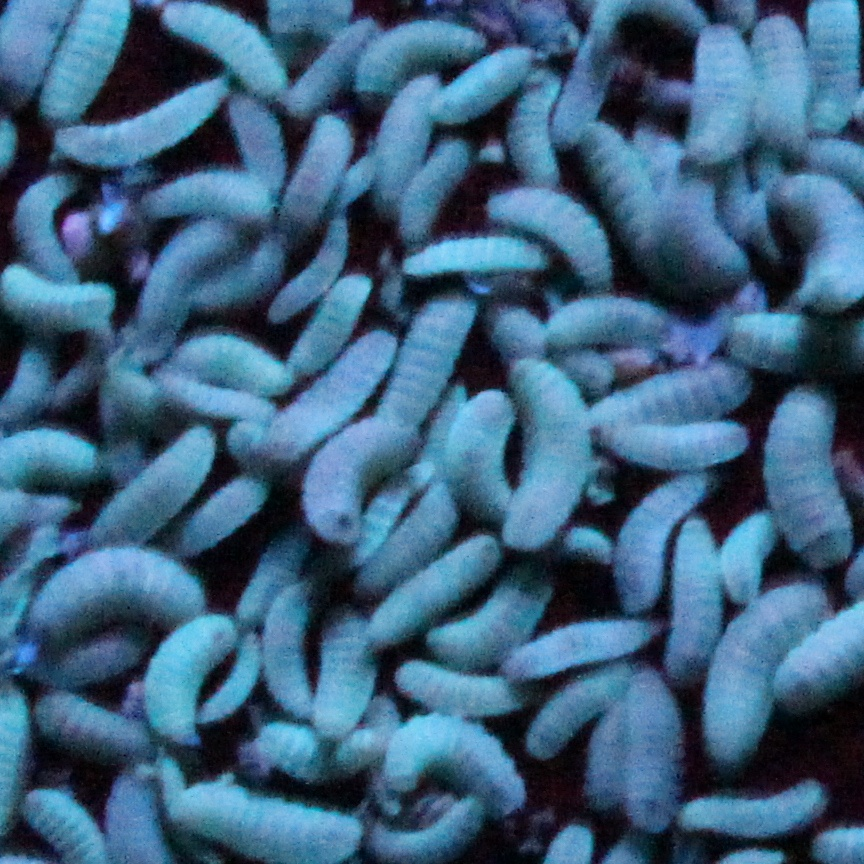larve: (238, 332, 392, 460), (710, 597, 826, 763), (761, 389, 851, 563), (96, 432, 221, 550), (175, 781, 356, 861), (640, 130, 740, 274), (379, 716, 522, 815), (55, 80, 226, 162), (516, 359, 583, 548), (307, 420, 420, 531), (620, 471, 708, 613), (378, 539, 500, 638), (28, 552, 212, 614), (166, 0, 280, 94), (385, 304, 478, 418), (595, 366, 738, 440), (146, 623, 235, 740), (499, 189, 608, 281), (505, 617, 663, 679), (591, 126, 659, 270), (743, 7, 808, 151), (535, 654, 633, 749), (353, 20, 491, 87), (685, 22, 751, 158), (366, 483, 452, 587), (429, 583, 554, 653), (448, 386, 515, 515), (139, 224, 221, 329), (278, 115, 349, 232), (677, 779, 823, 835), (285, 23, 371, 116), (2, 260, 110, 333), (605, 418, 748, 472), (357, 465, 436, 558), (378, 81, 433, 213), (633, 669, 679, 826), (163, 332, 285, 390), (269, 233, 352, 318), (299, 275, 370, 374), (404, 654, 523, 712), (667, 522, 712, 674), (263, 579, 312, 716), (317, 613, 372, 733), (41, 696, 152, 755), (185, 470, 269, 545), (233, 530, 309, 611), (432, 53, 523, 120), (21, 636, 149, 683), (142, 174, 276, 218), (404, 131, 455, 243), (227, 96, 291, 180), (152, 374, 275, 417), (194, 253, 285, 311), (16, 184, 78, 268), (511, 76, 558, 185), (406, 238, 554, 269), (256, 725, 329, 785), (204, 637, 259, 716), (585, 692, 626, 797), (543, 304, 677, 335), (421, 383, 471, 463), (728, 507, 767, 600), (58, 352, 99, 408), (339, 147, 371, 208)
